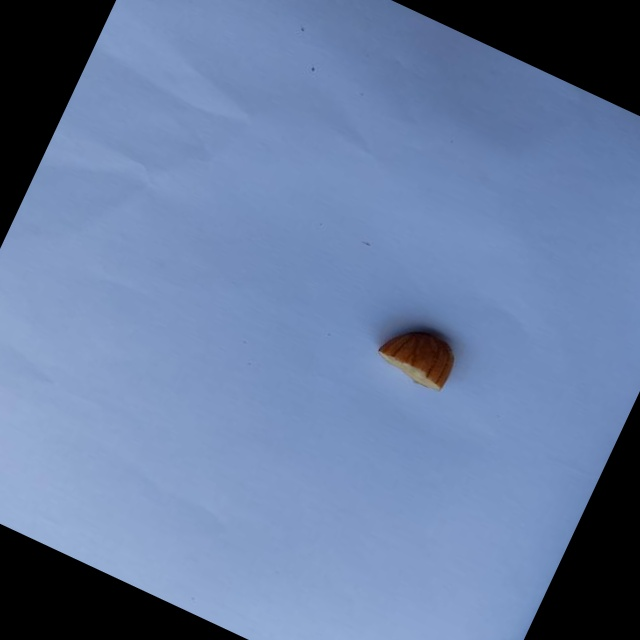grade4: (363, 306, 472, 401)
